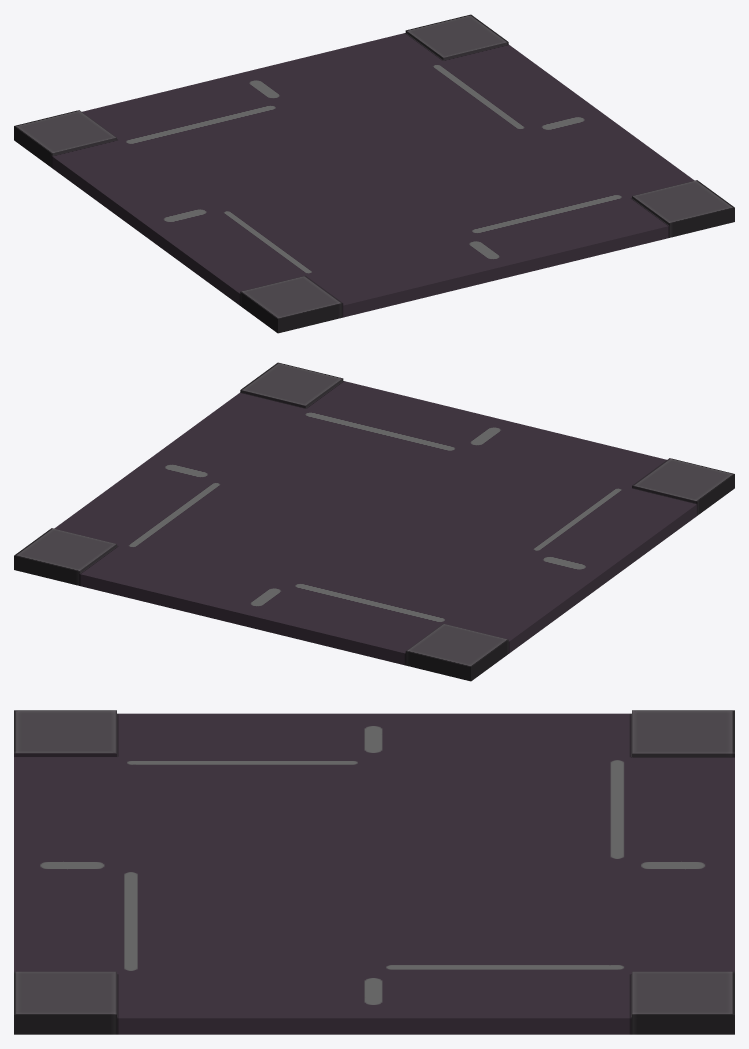
Rendered from mesh_road4Way.fbx.
The picture shows the model from 3 angles, top to bottom: view 1: azimuth 30°, elevation 25°; view 2: azimuth 150°, elevation 25°; view 3: azimuth 270°, elevation 25°; orthographic projection. The views are drawn at different scales.
Visible parts, largest first — view 1: mesh_road4Way; view 2: mesh_road4Way; view 3: mesh_road4Way.
Part boxes in pixels (bbox=[...]): mesh_road4Way: bbox=[14, 14, 734, 333]; mesh_road4Way: bbox=[14, 362, 734, 681]; mesh_road4Way: bbox=[14, 710, 734, 1034].
Size of the model in its own units: 2000 by 60 by 2000.
Materials: 1 (1 with a texture image).
